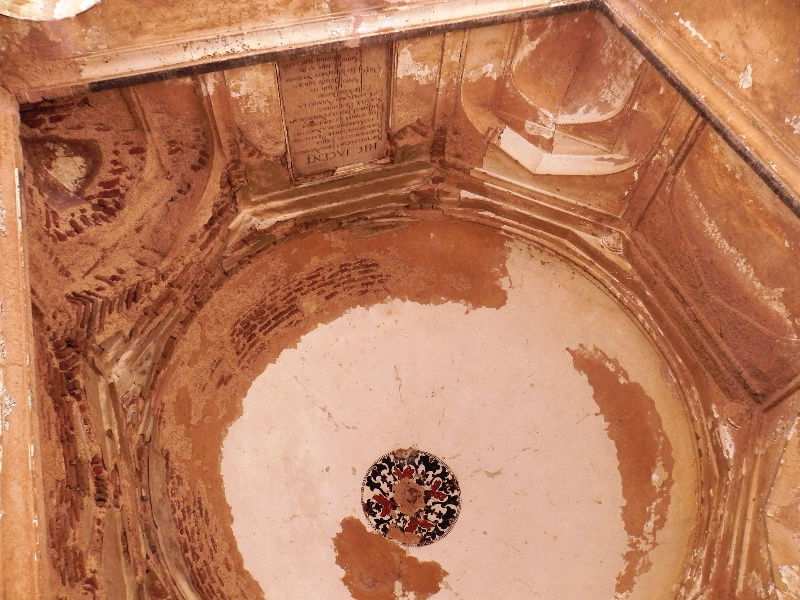Exposed Bricks: (21, 125, 135, 567), (227, 247, 402, 360)
Spalling: (564, 340, 679, 590)
